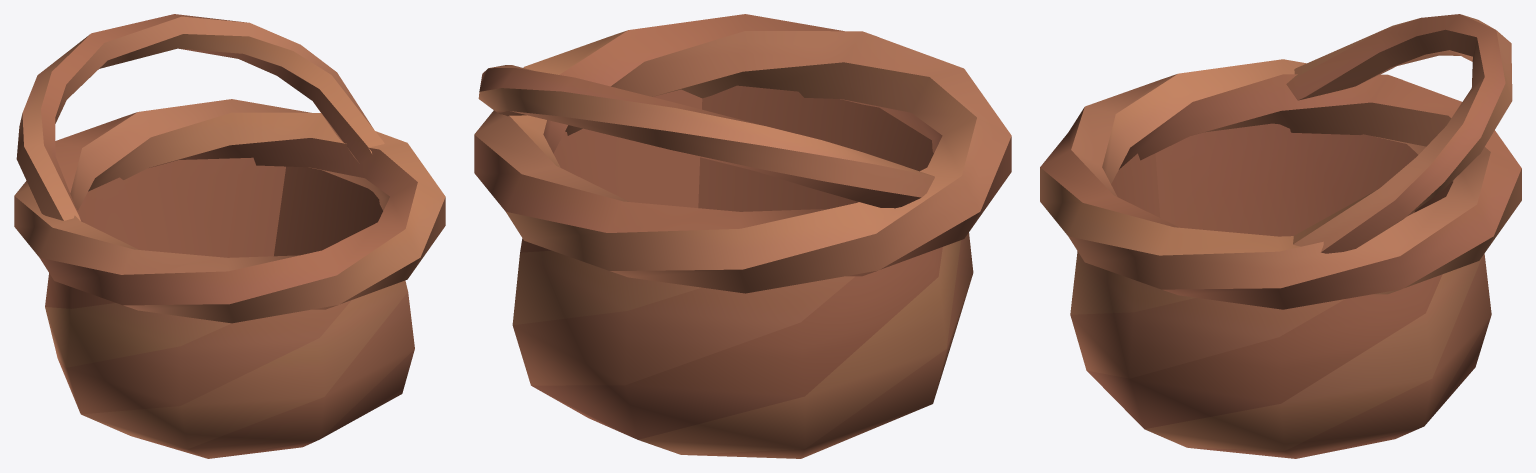
File: food_basket_a_empty.glb
3 views of the same model, side by side, from view 1: azimuth 30°, elevation 25°; view 2: azimuth 150°, elevation 25°; view 3: azimuth 270°, elevation 25° (orthographic). The views are drawn at different scales.
Visible parts, largest first — view 1: Food_Basket_A_Empty; view 2: Food_Basket_A_Empty; view 3: Food_Basket_A_Empty.
Boxes of the visible parts, left/top/right/bottom form: Food_Basket_A_Empty: left=14, top=14, right=445, bottom=458; Food_Basket_A_Empty: left=474, top=14, right=1011, bottom=458; Food_Basket_A_Empty: left=1040, top=14, right=1521, bottom=458.
Size of the model in its own units: 0.8506 by 0.6798 by 0.834.
1 material, 1 textured.
